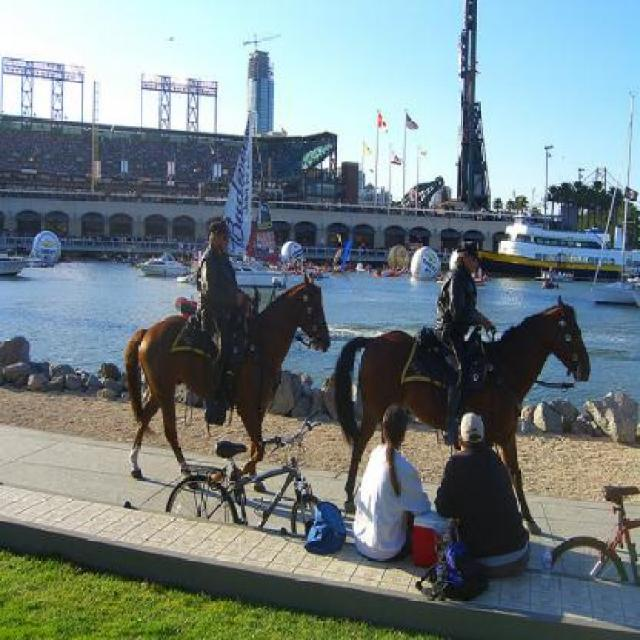ship: (218, 108, 288, 287), (478, 198, 612, 280), (588, 101, 637, 302), (138, 248, 190, 278), (533, 266, 573, 280)
